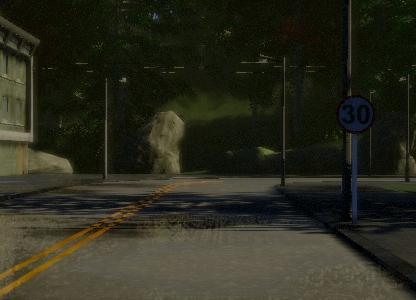Speed_30: (333, 90, 379, 138)
